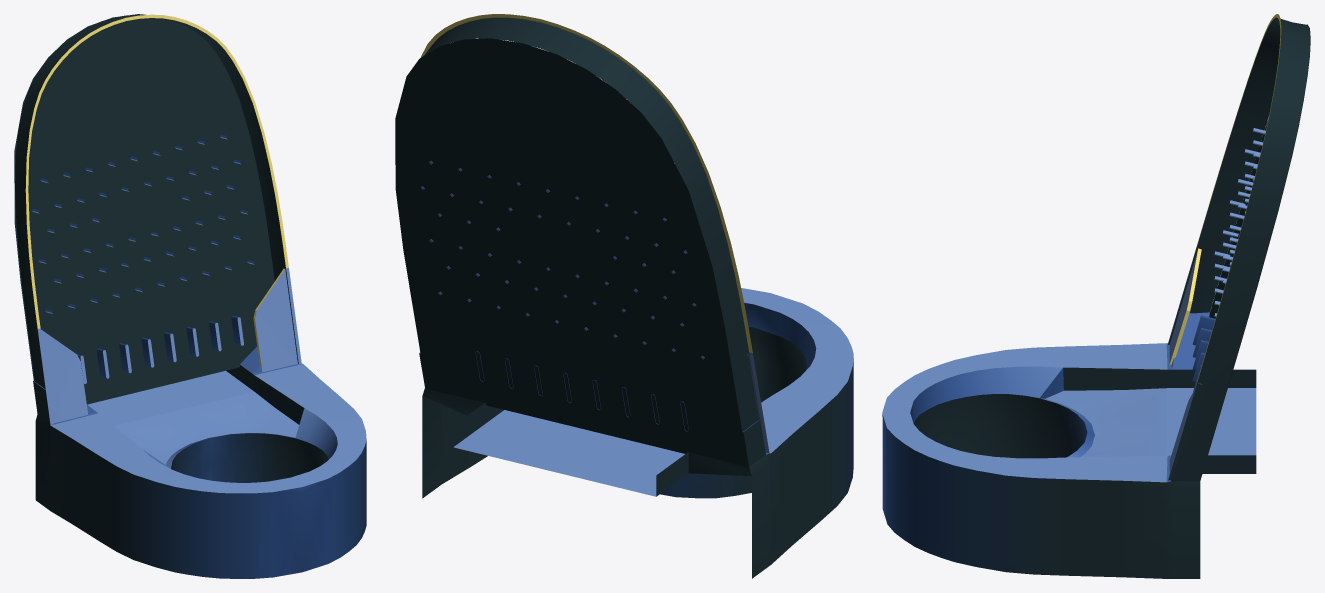
The model's file is fullboard.glb.
3 views of the same model, side by side, from view 1: azimuth 30°, elevation 25°; view 2: azimuth 150°, elevation 25°; view 3: azimuth 270°, elevation 25° (orthographic). The views are drawn at different scales.
Visible parts, largest first — view 1: Circle, Table_EDIT, Circle.001, Grid.001, obstacle_Pin_LOW; view 2: Circle, Table_EDIT, Circle.001, obstacle_Pin_LOW; view 3: Table_EDIT, Circle.001, Circle, obstacle_Pin_LOW, Grid.001.
Part boxes in pixels (x1,y1,x2,y2): Circle: (14,14,297,423); Table_EDIT: (33,346,366,578); Circle.001: (15,14,301,424); Grid.001: (77,315,243,383); obstacle_Pin_LOW: (31,134,256,313); Circle: (395,38,759,467); Table_EDIT: (419,288,853,578); Circle.001: (420,14,769,453); obstacle_Pin_LOW: (421,161,704,359); Table_EDIT: (882,312,1256,578); Circle.001: (1168,14,1310,480); Circle: (1169,24,1310,473); obstacle_Pin_LOW: (1214,128,1265,316); Grid.001: (1192,315,1215,391).
Bounding box in the file's own units: 11.01 × 17.7 × 14.32.
1 material, 1 textured.
